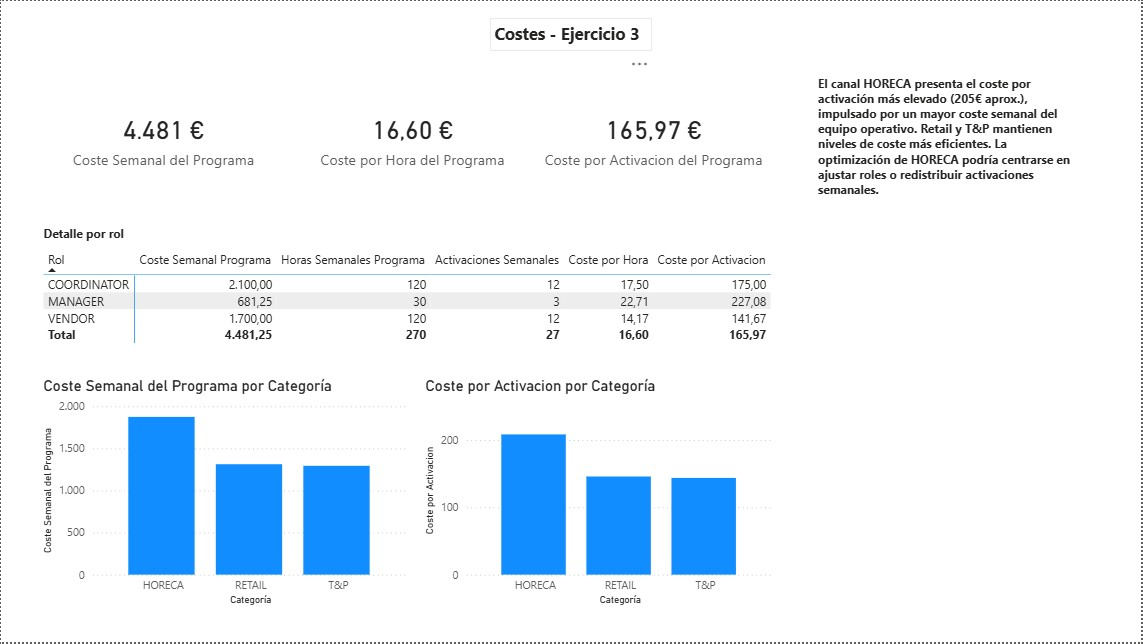

The dashboard page shown, as its layout file describes it:
{"tool":"powerbi","page":{"name":"Ejercicio 3 – Costes","canvas":[1280,720],"ordinal":3},"visuals":[{"type":"pivotTable","fields":{"Rows":["DIM_Costes.Role"],"Values":["DIM_Costes.Coste_Semanal_Programa","DIM_Costes.Horas_Semanales_Programa","DIM_Costes.Activaciones_Semanales","DIM_Costes.Coste_por_Hora","DIM_Costes.Coste_por_Activacion"]},"box":[42.2,275.6,858.9,125.6],"z":0},{"type":"card","fields":{"Values":["DIM_Costes.Coste_Semanal_Programa"]},"box":[42.2,78.9,280,150],"z":2},{"type":"card","fields":{"Values":["DIM_Costes.Coste_por_Hora"]},"box":[322.2,78.9,280,150],"z":3},{"type":"card","fields":{"Values":["DIM_Costes.Coste_por_Activacion"]},"box":[593.3,78.9,280,150],"z":4},{"type":"textbox","box":[548.9,18.9,182.2,37.8],"z":5},{"type":"textbox","box":[42.2,246.7,210,28.9],"z":9},{"type":"clusteredColumnChart","fields":{"Category":["DIM_Costes.Category"],"Y":["DIM_Costes.Coste_Semanal_Programa"]},"box":[42.2,422.2,420,261.1],"z":10},{"type":"clusteredColumnChart","fields":{"Category":["DIM_Costes.Category"],"Y":["DIM_Costes.Coste_por_Activacion"]},"box":[472.2,422.2,401.1,261.1],"z":11},{"type":"textbox","box":[873.3,78.9,343.3,196.7],"z":12}]}

Visuals, with their boxes in screenshot pixels (x1, y1, x2, y2), scaled from the page's 1280x720 canvas onto the 1143x644 screenshot:
pivotTable - DIM_Costes.Role x DIM_Costes.Coste_Semanal_Programa: {"x1": 38, "y1": 247, "x2": 805, "y2": 359}
card - DIM_Costes.Coste_Semanal_Programa: {"x1": 38, "y1": 71, "x2": 288, "y2": 205}
card - DIM_Costes.Coste_por_Hora: {"x1": 288, "y1": 71, "x2": 538, "y2": 205}
card - DIM_Costes.Coste_por_Activacion: {"x1": 530, "y1": 71, "x2": 780, "y2": 205}
textbox: {"x1": 490, "y1": 17, "x2": 653, "y2": 51}
textbox: {"x1": 38, "y1": 221, "x2": 225, "y2": 247}
clusteredColumnChart - DIM_Costes.Category x DIM_Costes.Coste_Semanal_Programa: {"x1": 38, "y1": 378, "x2": 413, "y2": 611}
clusteredColumnChart - DIM_Costes.Category x DIM_Costes.Coste_por_Activacion: {"x1": 422, "y1": 378, "x2": 780, "y2": 611}
textbox: {"x1": 780, "y1": 71, "x2": 1086, "y2": 247}
